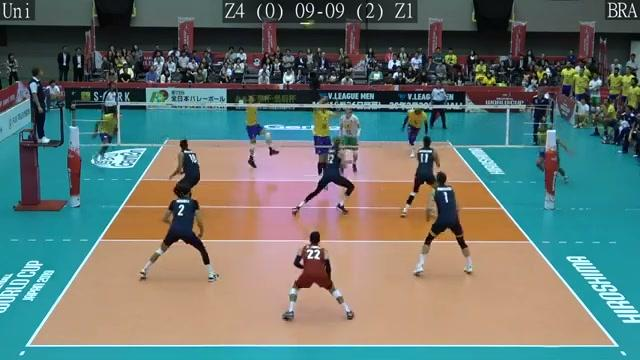ball: (301, 17, 317, 31)
